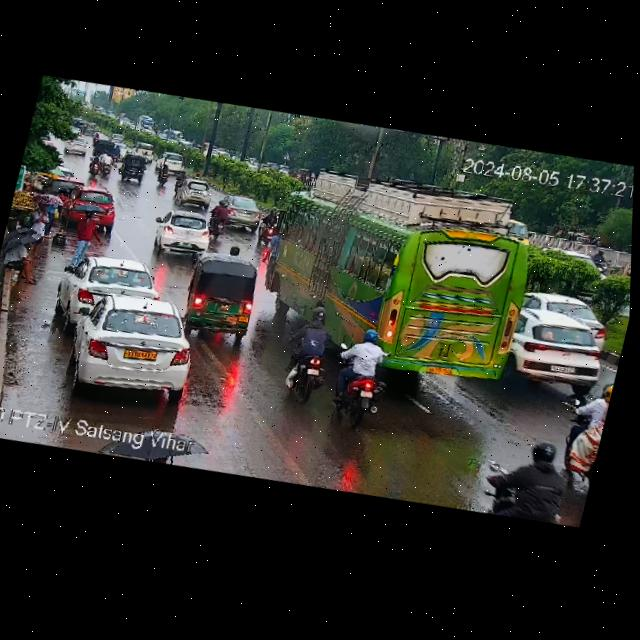bus: (249, 141, 561, 404)
car: (47, 279, 212, 411), (503, 309, 613, 399), (178, 247, 265, 346), (59, 246, 162, 327), (535, 282, 617, 346), (152, 205, 224, 259), (64, 183, 120, 230), (215, 189, 266, 231), (174, 175, 218, 209), (115, 150, 153, 186), (52, 170, 87, 197), (157, 151, 190, 176), (89, 135, 117, 162), (63, 131, 87, 156), (130, 140, 157, 162), (111, 131, 126, 143), (117, 144, 128, 160)
motorcycle: (486, 425, 585, 530), (554, 368, 615, 487), (275, 302, 339, 404), (328, 324, 399, 415), (255, 208, 287, 248), (207, 200, 236, 237), (87, 147, 116, 180), (174, 168, 189, 193), (155, 163, 170, 186), (92, 128, 101, 143), (193, 170, 202, 180)
person: (0, 234, 48, 286), (70, 205, 99, 264), (26, 196, 56, 240), (38, 193, 63, 238)
